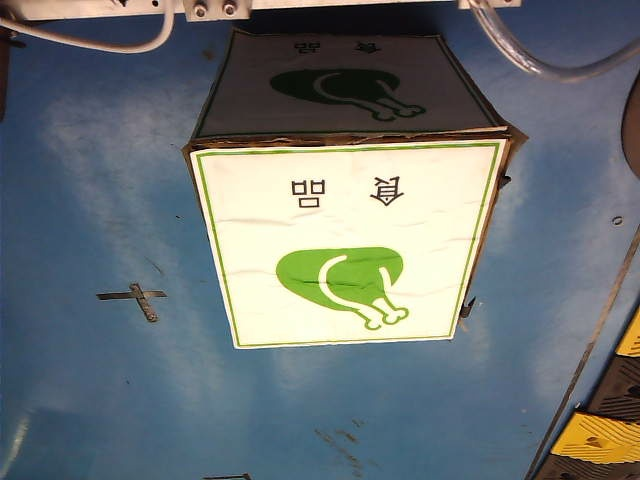Cube_food: (234, 147, 454, 341)
